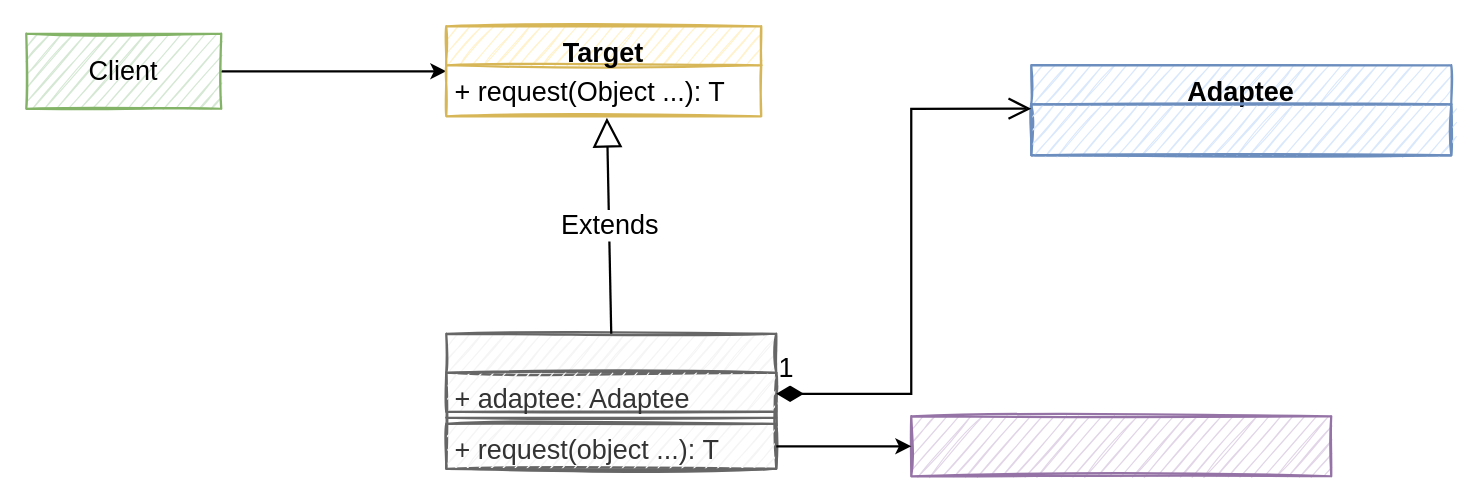
The diagram is 1479 pixels wide and 504 high, and some of its shapes have lost their labels. The box of each missing label's shape, as (x1, y1, x2, y2) in pixels:
+ specficRequest(Object ...): T: (1029, 102, 1452, 156)
Adapter: (444, 332, 777, 469)
return adpatee.specficRequest(): (909, 414, 1332, 477)
